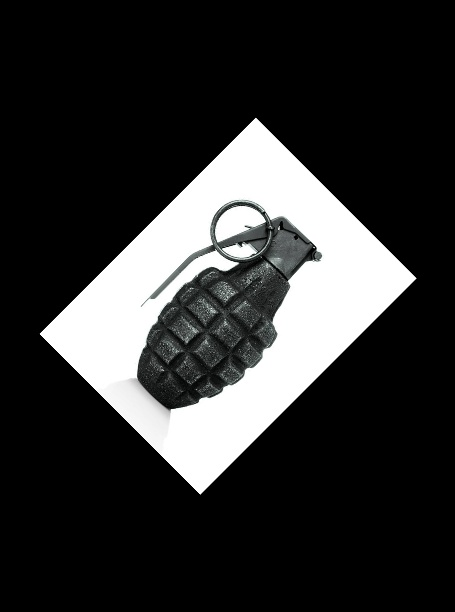e1: (136, 200, 323, 409)
